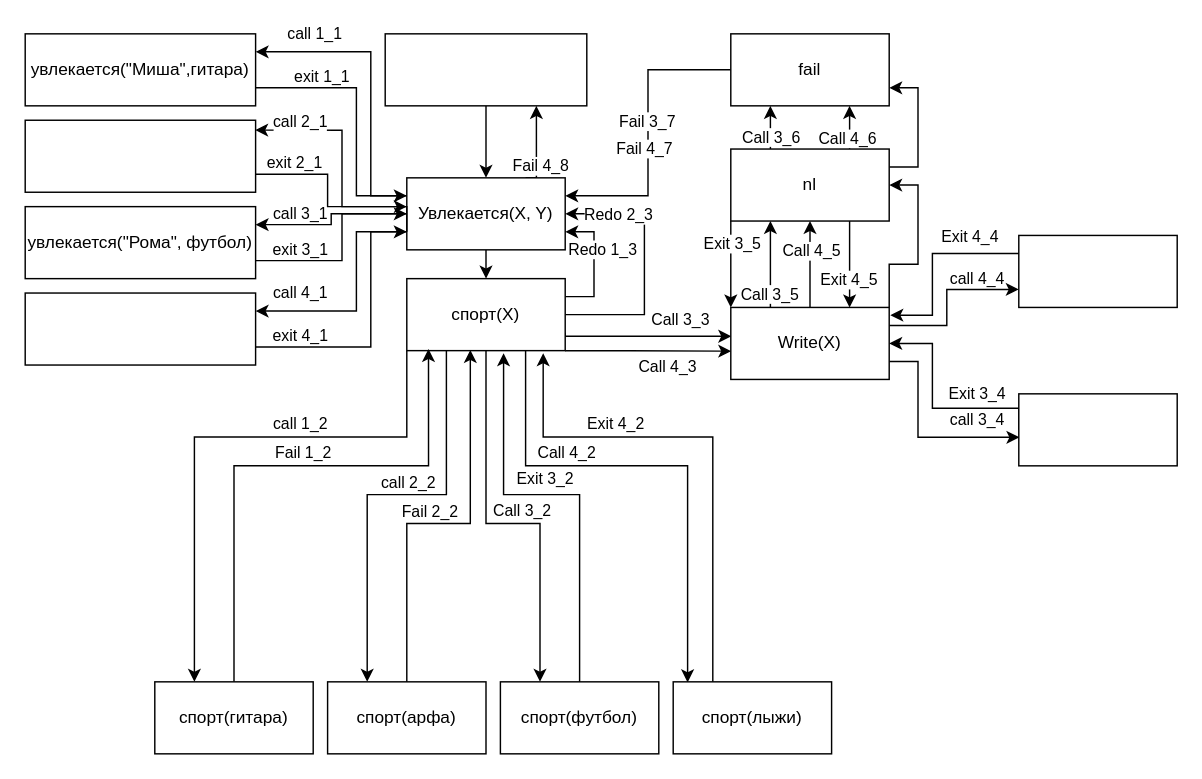
The diagram is 1202 pixels wide and 779 high, and some of its shapes have lost their labels. Here are the shapes that lost their labels. From the top down, the box of each, then its label:
(384, 32, 587, 106): увлекается_спортом(X )
(24, 119, 256, 192): увлекается("Маша", арфа)
(1017, 234, 1177, 307): Write("Таня")
(24, 292, 256, 365): увлекается("Таня", лыжи)
(1017, 392, 1177, 466): Write("Рома")
